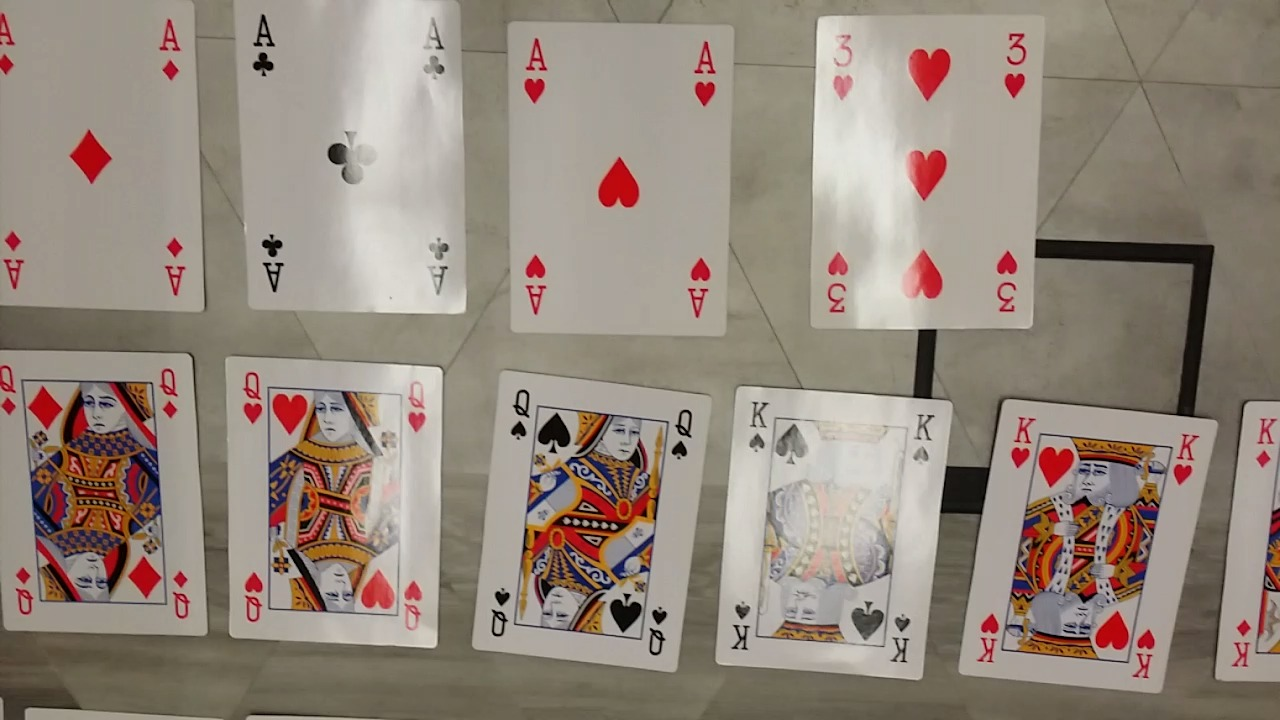1_club: (239, 0, 476, 311)
1_diamond: (0, 0, 210, 316)
1_heart: (508, 13, 734, 343)
3_heart: (810, 17, 1039, 328)
king_heart: (958, 398, 1222, 696)
king_spade: (714, 385, 954, 684)
queen_diamond: (0, 351, 210, 636)
queen_heart: (224, 354, 442, 648)
queen_spade: (467, 373, 709, 678)
